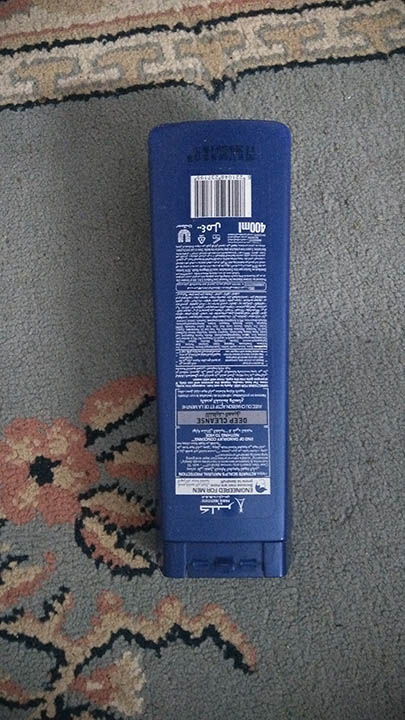Shampoo-Clear 4.7$: (142, 116, 304, 586)
